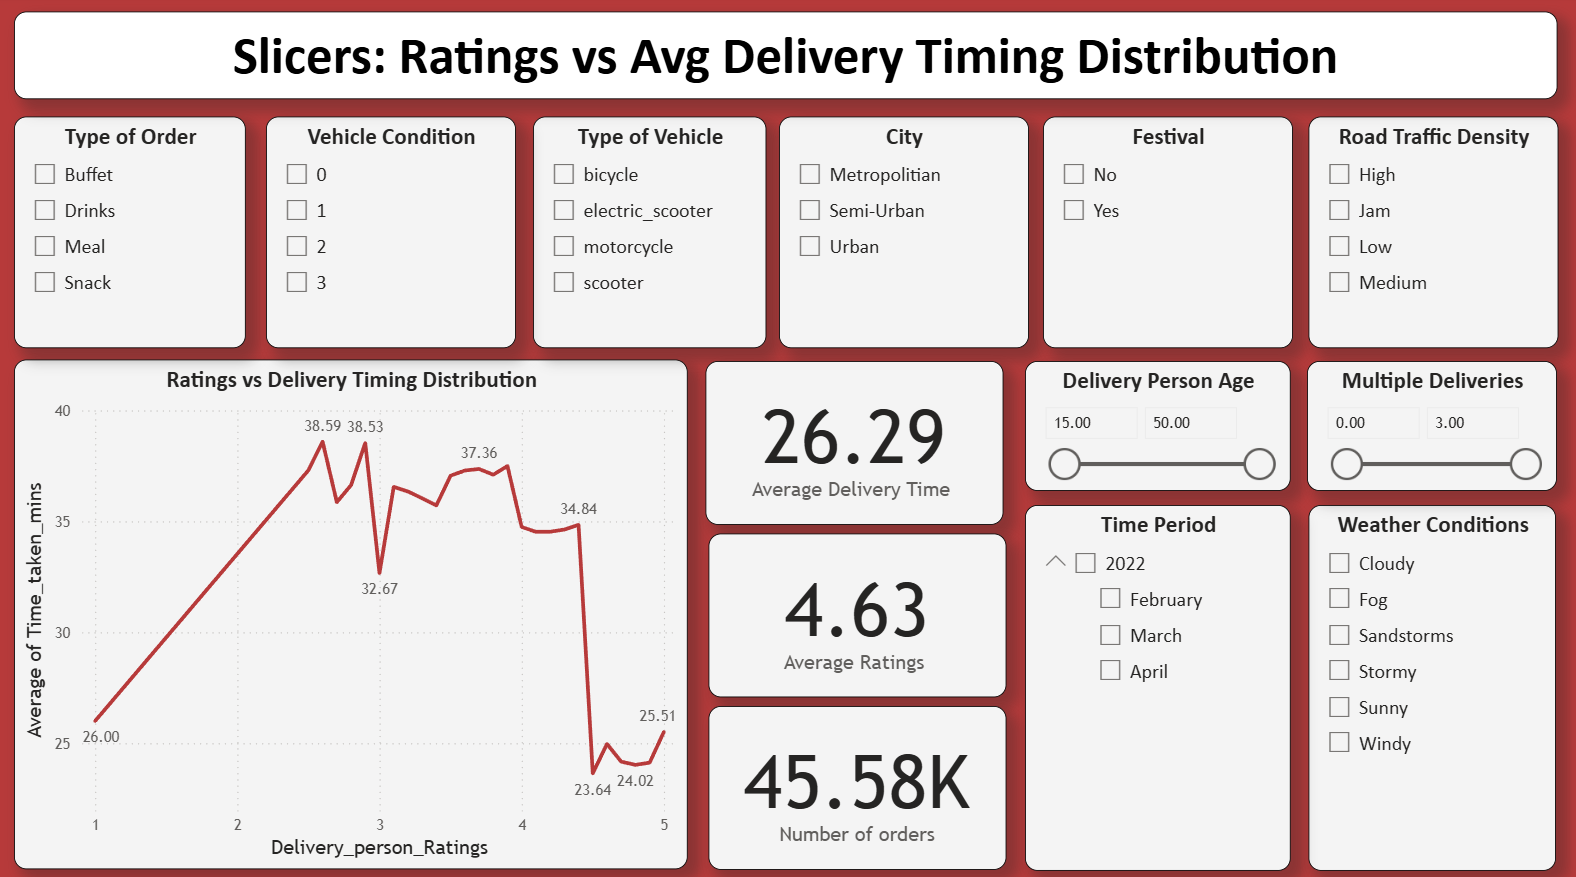

The page's visual inventory and layout, read from the dashboard file:
{"tool":"powerbi","page":{"name":"Relation dashboard","canvas":[1280,720],"ordinal":1},"visuals":[{"type":"lineChart","title":"Ratings vs Delivery Timing Distribution","fields":{"Category":["zomato_data zomato.Delivery_person_Ratings"],"Y":["Avg(zomato_data zomato.Time_taken_mins)"]},"box":[16.8,293.9,542.8,410.7],"z":0},{"type":"slicer","title":"Type of Order","fields":{"Values":["zomato_data zomato.Type_of_order"]},"box":[17.2,97.7,186.7,186.7],"z":1000},{"type":"slicer","title":"Type of Vehicle","fields":{"Values":["zomato_data zomato.Type_of_vehicle"]},"box":[435.1,97.7,188.1,186.7],"z":2000},{"type":"slicer","title":"Weather Conditions","fields":{"Values":["zomato_data zomato.Weather_conditions"]},"box":[1059.8,410.7,199.6,294.4],"z":3000},{"type":"slicer","title":"City","fields":{"Values":["zomato_data zomato.City"]},"box":[633.3,97.7,201,186.7],"z":4000},{"type":"slicer","title":"Festival","fields":{"Values":["zomato_data zomato.Festival"]},"box":[845.8,97.7,201,186.7],"z":5000},{"type":"slicer","title":"Road Traffic Density","fields":{"Values":["zomato_data zomato.Road_traffic_density"]},"box":[1059.8,97.7,201,186.7],"z":6000},{"type":"card","fields":{"Values":["Avg(zomato_data zomato.Time_taken_mins)"]},"box":[574.4,294.4,239.8,132.1],"z":7000},{"type":"card","fields":{"Values":["Avg(zomato_data zomato.Delivery_person_Ratings)"]},"box":[575.9,433.7,239.8,132.1],"z":8000},{"type":"card","fields":{"Values":["Count(zomato_data zomato.ID)"]},"box":[575.9,573,239.8,132.1],"z":9000},{"type":"slicer","title":"Delivery Person Age","fields":{"Values":["zomato_data zomato.Delivery_person_Age"]},"box":[831.5,294.4,214,104.8],"z":10000},{"type":"slicer","title":"Multiple Deliveries","fields":{"Values":["zomato_data zomato.multiple_deliveries"]},"box":[1058.4,294.4,201,104.8],"z":11000},{"type":"slicer","title":"Time Period","fields":{"Values":["zomato_data zomato.Order_Date.Variation.Date Hierarchy.Year","zomato_data zomato.Order_Date.Variation.Date Hierarchy.Month"]},"box":[831.5,410.7,214,294.4],"z":12000},{"type":"slicer","title":"Vehicle Condition","fields":{"Values":["zomato_data zomato.Vehicle_condition"]},"box":[219.7,97.7,201,186.7],"z":13000},{"type":"textbox","box":[17.2,12.9,1243.6,70.4],"z":14000}]}

Visuals, with their boxes in screenshot pixels (x1, y1, x2, y2), scaled from the page's 1280x720 canvas onto the 1576x877 screenshot:
"Ratings vs Delivery Timing Distribution" lineChart: [21, 358, 689, 858]
"Type of Order" slicer: [21, 119, 251, 346]
"Type of Vehicle" slicer: [536, 119, 767, 346]
"Weather Conditions" slicer: [1305, 500, 1551, 859]
"City" slicer: [780, 119, 1027, 346]
"Festival" slicer: [1041, 119, 1289, 346]
"Road Traffic Density" slicer: [1305, 119, 1552, 346]
card - Avg(zomato_data zomato.Time_taken_mins): [707, 359, 1002, 520]
card - Avg(zomato_data zomato.Delivery_person_Ratings): [709, 528, 1004, 689]
card - Count(zomato_data zomato.ID): [709, 698, 1004, 859]
"Delivery Person Age" slicer: [1024, 359, 1287, 486]
"Multiple Deliveries" slicer: [1303, 359, 1551, 486]
"Time Period" slicer: [1024, 500, 1287, 859]
"Vehicle Condition" slicer: [271, 119, 518, 346]
textbox: [21, 16, 1552, 101]
